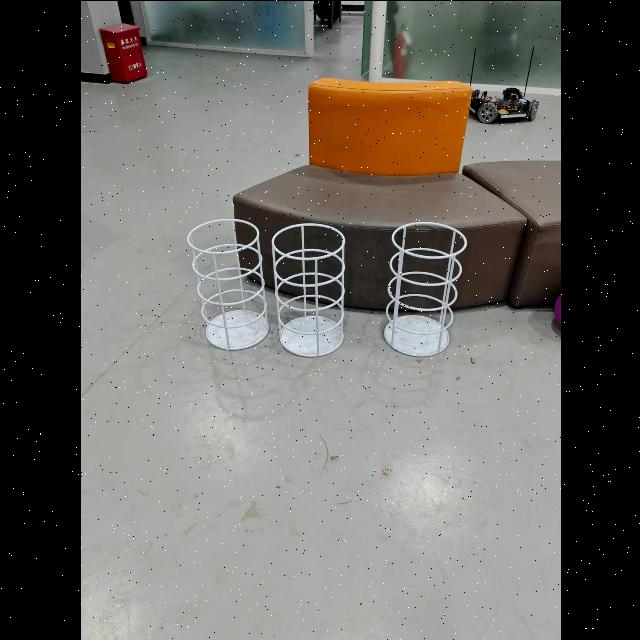P: (552, 284, 560, 332)
S: (382, 221, 462, 357), (186, 216, 266, 350), (270, 220, 342, 356)
